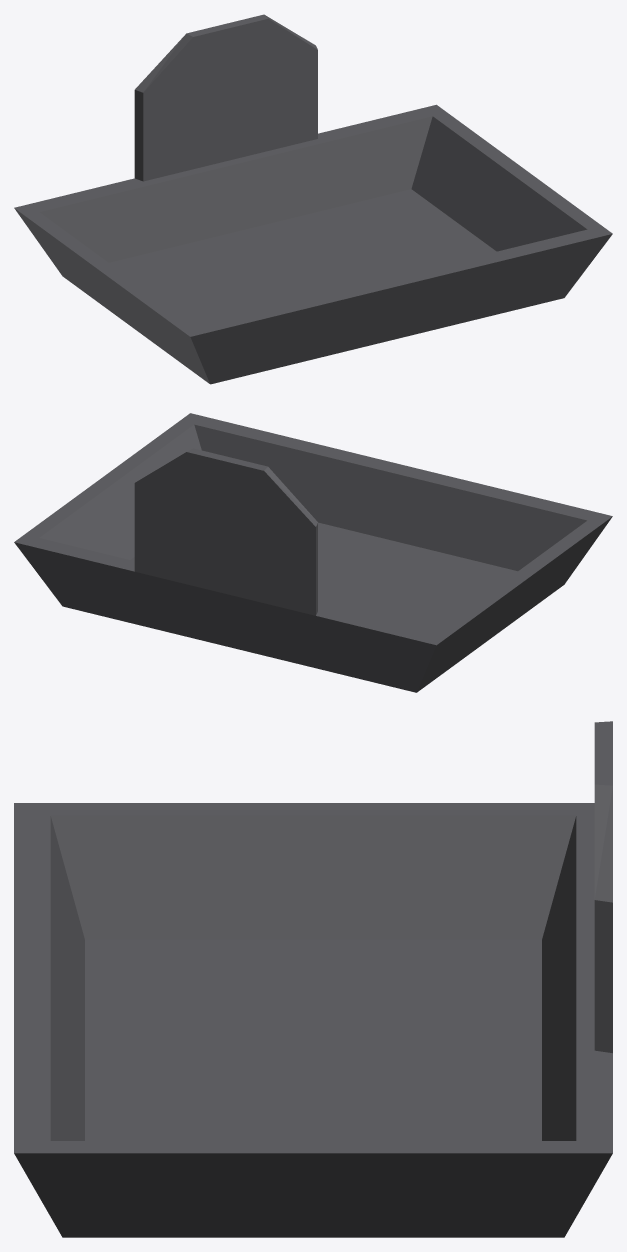
Rendered from soap holder.FBX.
The picture shows the model from 3 angles, top to bottom: view 1: azimuth 30°, elevation 25°; view 2: azimuth 150°, elevation 25°; view 3: azimuth 270°, elevation 25°; orthographic projection. The views are drawn at different scales.
Visible parts, largest first — view 1: soap holder; view 2: soap holder; view 3: soap holder.
Part boxes in pixels (left/top/right/bottom): soap holder: left=14, top=14, right=612, bottom=384; soap holder: left=14, top=413, right=612, bottom=692; soap holder: left=14, top=721, right=612, bottom=1237.
Size of the model in its own units: 6.86 by 4.96 by 3.08.
